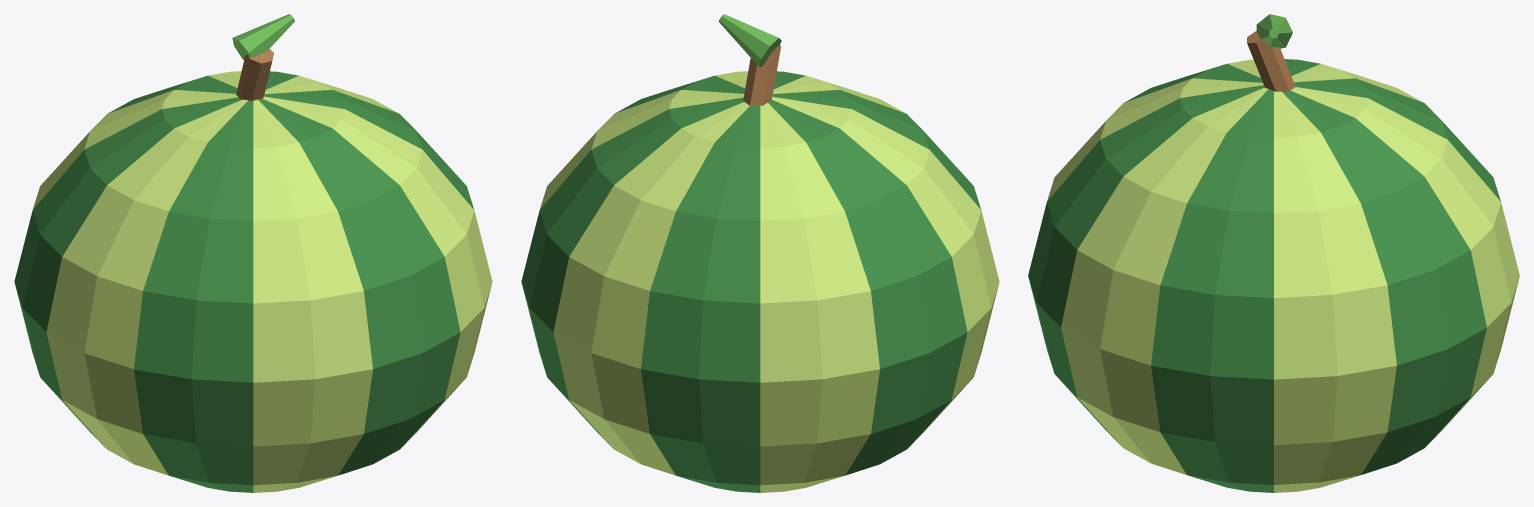
File: whole-watermelon.glb
3 views of the same model, side by side, from view 1: azimuth 30°, elevation 25°; view 2: azimuth 150°, elevation 25°; view 3: azimuth 270°, elevation 25° (orthographic). The views are drawn at different scales.
Visible parts, largest first — view 1: striped whole watermelon, stem hook, short curled watermelon stem; view 2: striped whole watermelon, stem hook, short curled watermelon stem; view 3: striped whole watermelon, short curled watermelon stem, stem hook.
Part boxes in pixels (x1,y1,x2,y2): striped whole watermelon: (14,71,492,492); stem hook: (232,14,294,59); short curled watermelon stem: (236,49,273,100); striped whole watermelon: (521,71,999,492); stem hook: (719,14,781,67); short curled watermelon stem: (743,45,780,105); striped whole watermelon: (1028,59,1519,492); short curled watermelon stem: (1247,31,1295,91); stem hook: (1256,14,1292,48).
Bounding box in the file's own units: 1.14 × 1.17 × 1.14.
